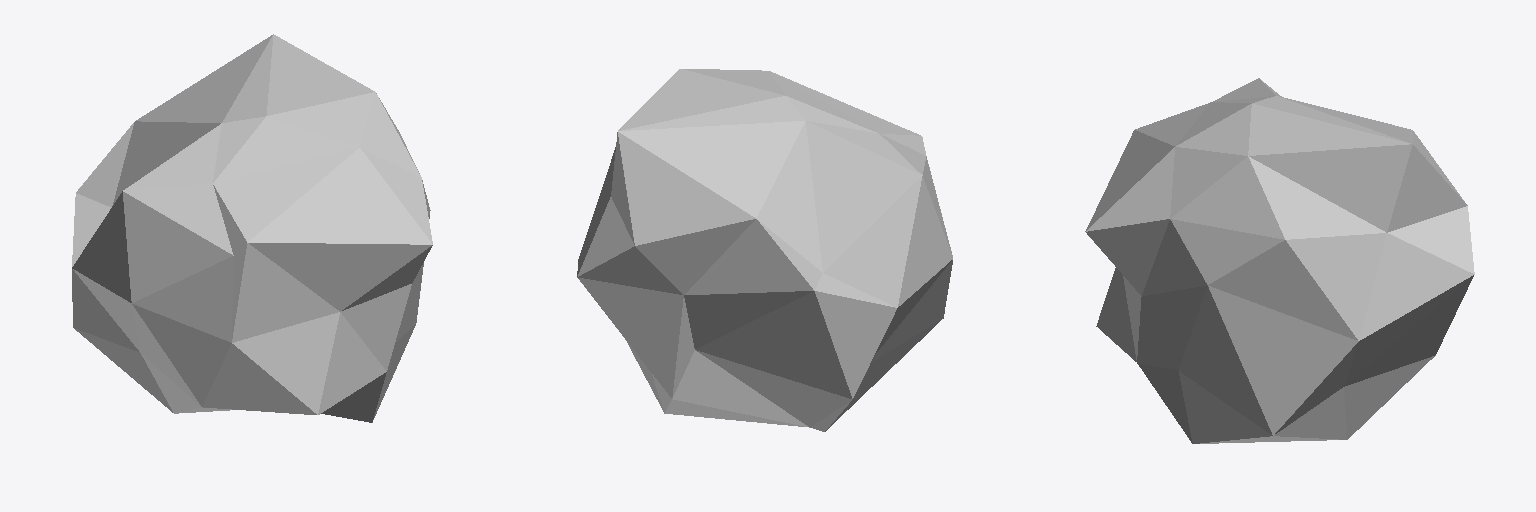
File: comet.obj
3 views of the same model, side by side, from view 1: azimuth 30°, elevation 25°; view 2: azimuth 150°, elevation 25°; view 3: azimuth 270°, elevation 25° (orthographic).
Visible parts, largest first — view 1: Icosphere.001_Icosphere.003; view 2: Icosphere.001_Icosphere.003; view 3: Icosphere.001_Icosphere.003.
Boxes of the visible parts, box(x1,y1,x2,y2) form: Icosphere.001_Icosphere.003: box(72, 34, 432, 422); Icosphere.001_Icosphere.003: box(577, 69, 952, 431); Icosphere.001_Icosphere.003: box(1085, 78, 1474, 443).
Bounding box in the file's own units: 1.93 × 1.8 × 2.08.